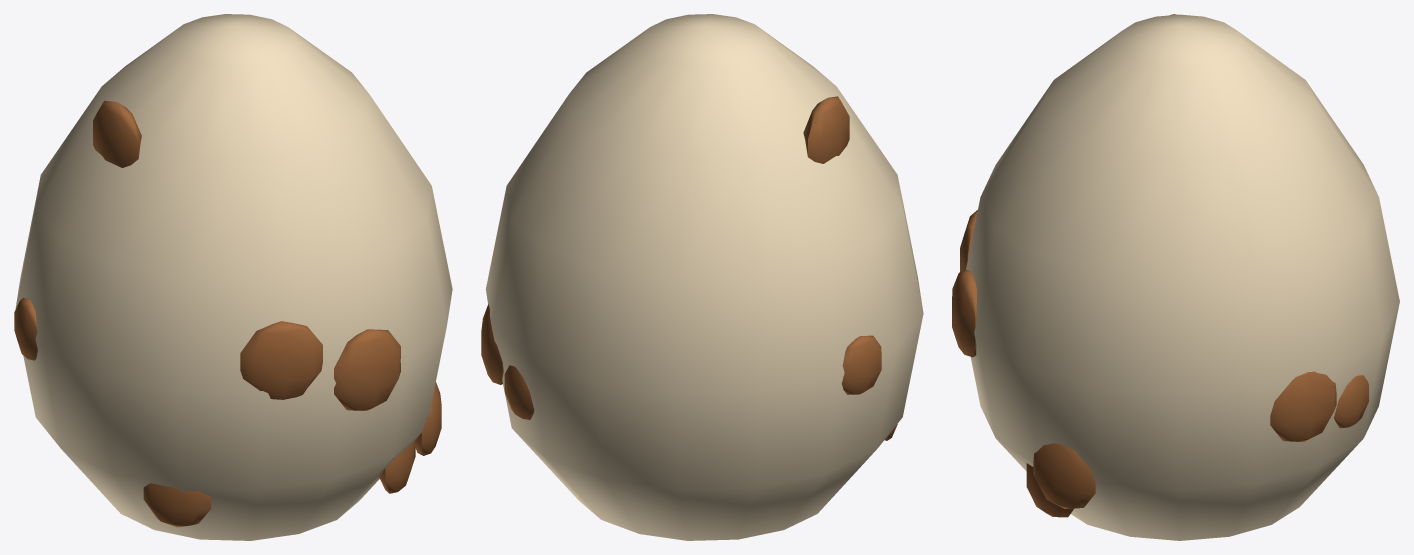
File: SpottedEgg.fbx
3 renders of one model, left to right at view 1: azimuth 30°, elevation 25°; view 2: azimuth 150°, elevation 25°; view 3: azimuth 270°, elevation 25°, orthographic.
Parts seen in each view (by area): view 1: SpottedEgg; view 2: SpottedEgg; view 3: SpottedEgg.
Boxes of the visible parts, x1=… form: SpottedEgg: x1=14, y1=14, x2=452, y2=540; SpottedEgg: x1=481, y1=14, x2=923, y2=540; SpottedEgg: x1=952, y1=14, x2=1399, y2=540.
Bounding box in the file's own units: 2.1 × 2.5 × 2.14.
Materials: 1 (1 with a texture image).
